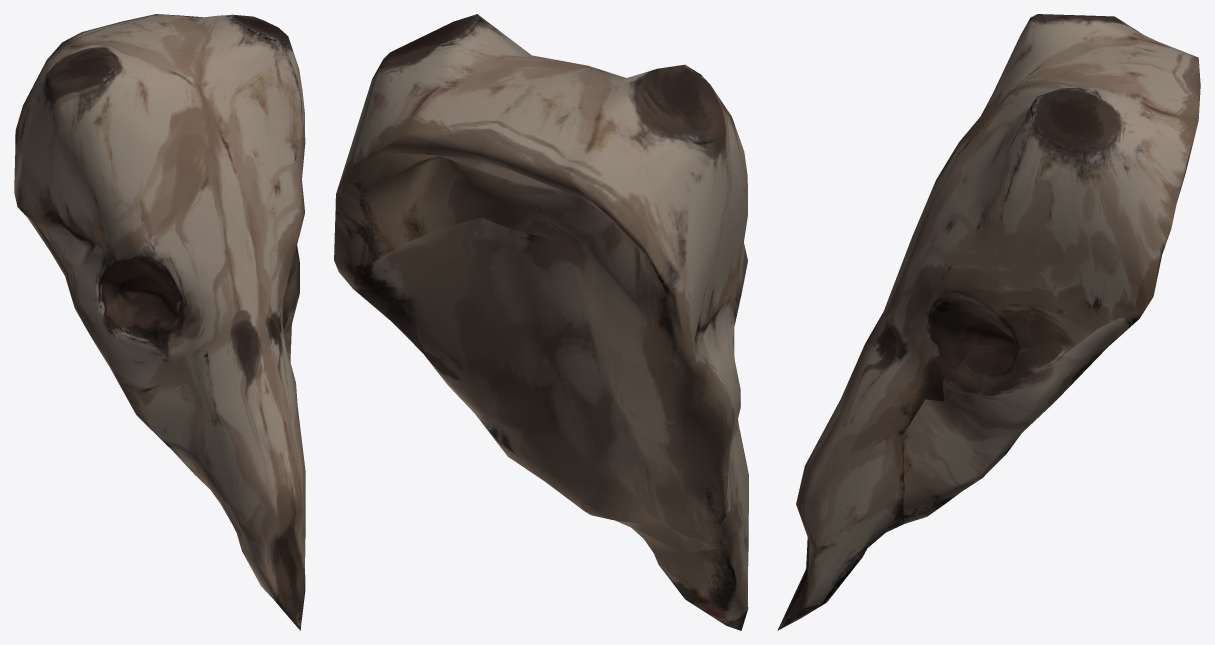
The model's file is Skull.fbx.
3 views of the same model, side by side, from view 1: azimuth 30°, elevation 25°; view 2: azimuth 150°, elevation 25°; view 3: azimuth 270°, elevation 25° (orthographic). The views are drawn at different scales.
Visible parts, largest first — view 1: LeshenSkullRelicLP; view 2: LeshenSkullRelicLP; view 3: LeshenSkullRelicLP.
Boxes of the visible parts, left/top/right/bottom form: LeshenSkullRelicLP: left=14, top=14, right=305, bottom=630; LeshenSkullRelicLP: left=334, top=14, right=748, bottom=630; LeshenSkullRelicLP: left=777, top=14, right=1200, bottom=630.
Size of the model in its own units: 109 by 211 by 140.
